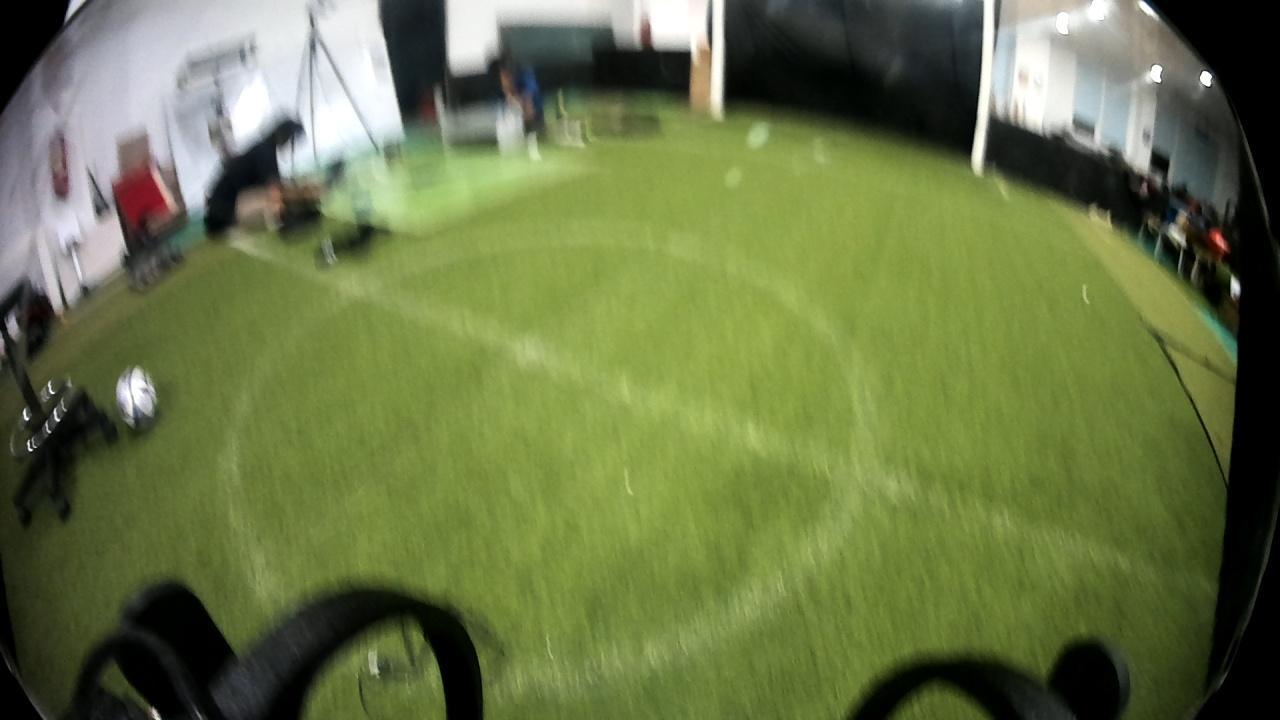ball: (113, 357, 160, 442)
